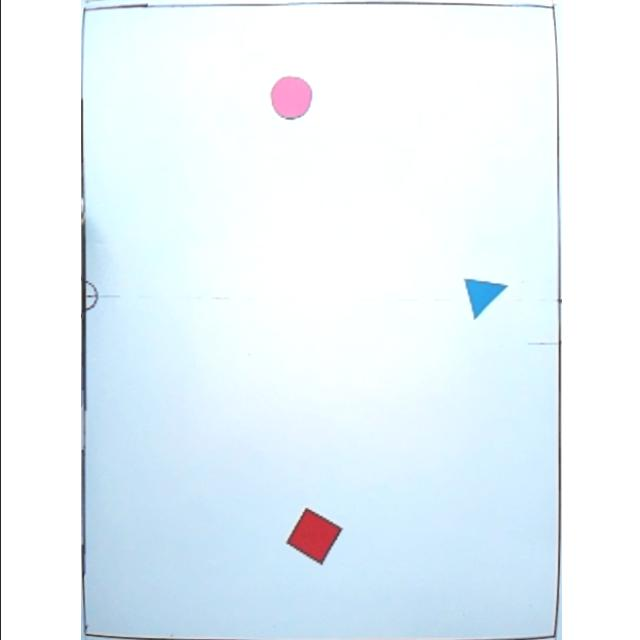blueTriangle: (462, 276, 506, 320)
pinkCircle: (266, 73, 312, 121)
redSquare: (282, 508, 342, 566)
